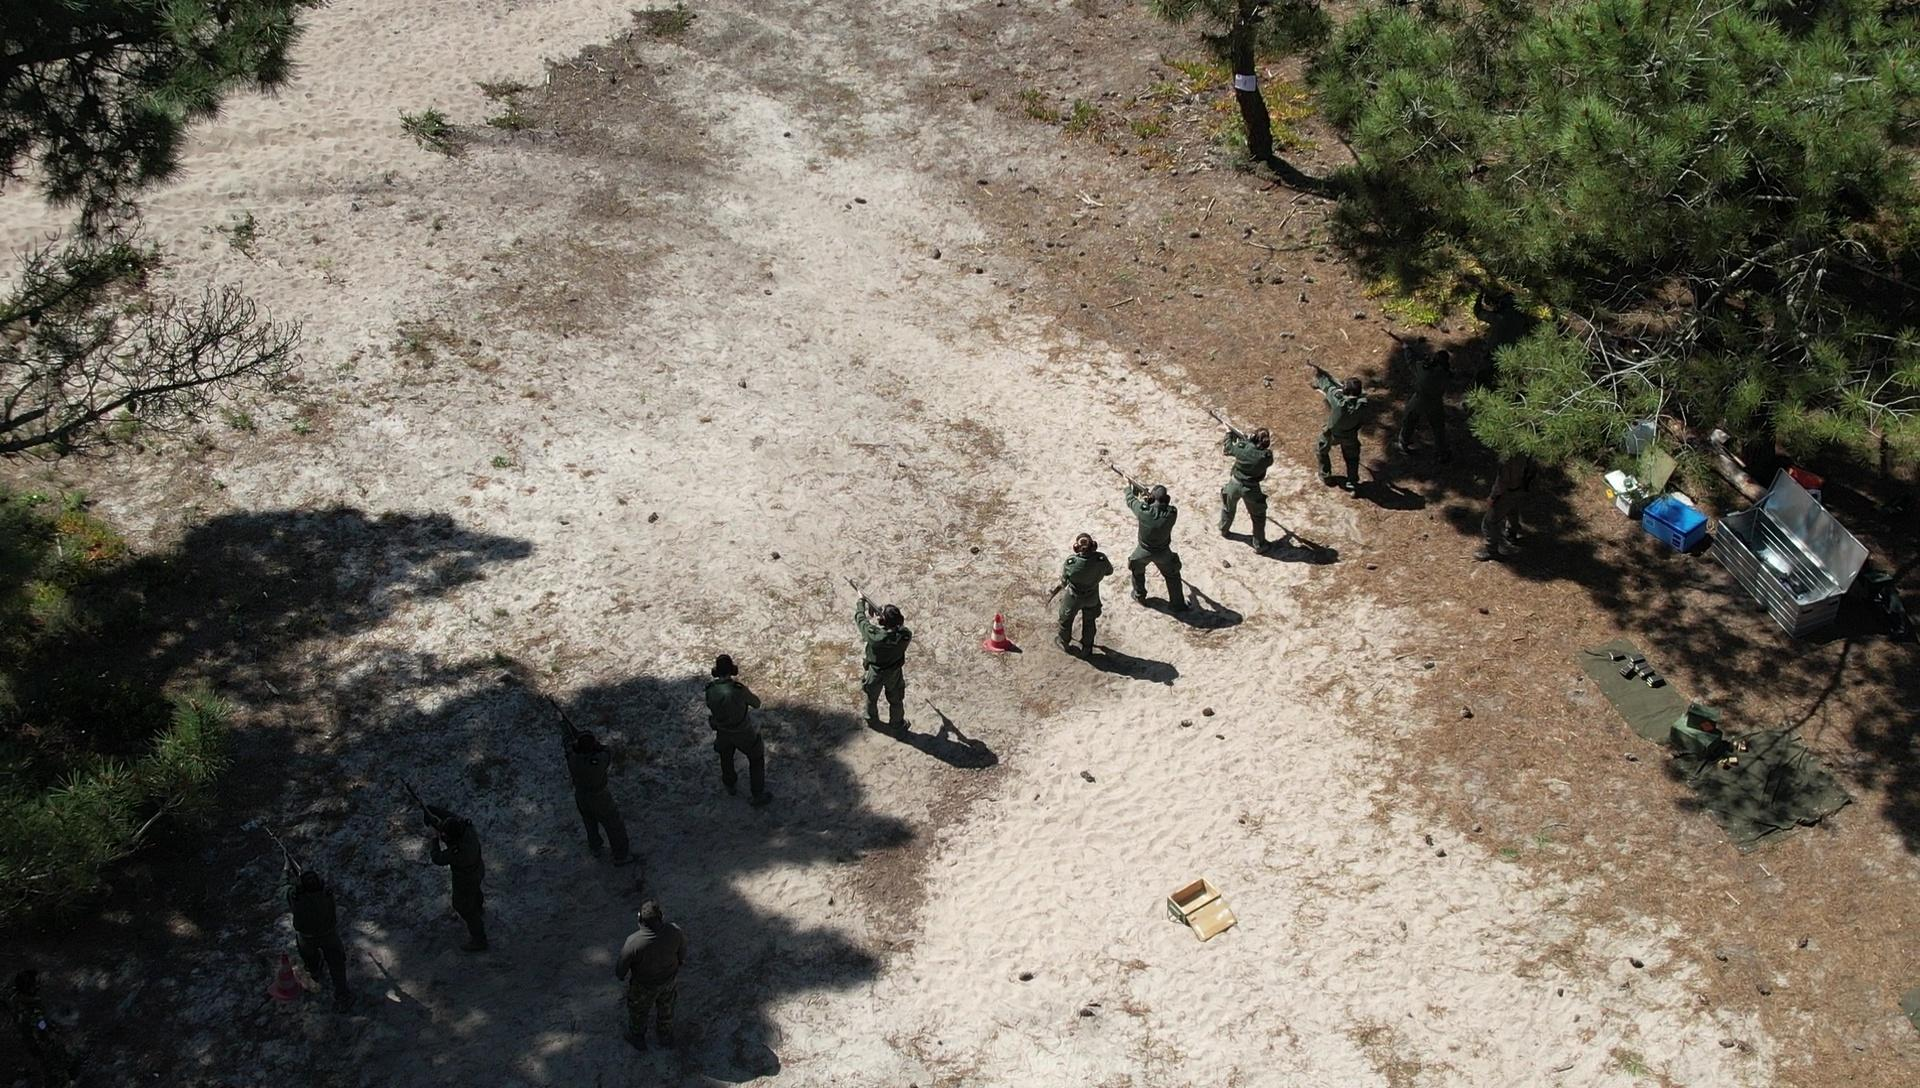Soldier: (539, 682, 665, 882), (402, 777, 524, 976), (1106, 466, 1212, 636), (270, 855, 372, 1009), (611, 905, 704, 1067), (691, 657, 782, 823), (1038, 516, 1129, 678), (841, 582, 928, 748), (1199, 421, 1290, 571), (1327, 371, 1393, 501), (1402, 343, 1458, 466)
